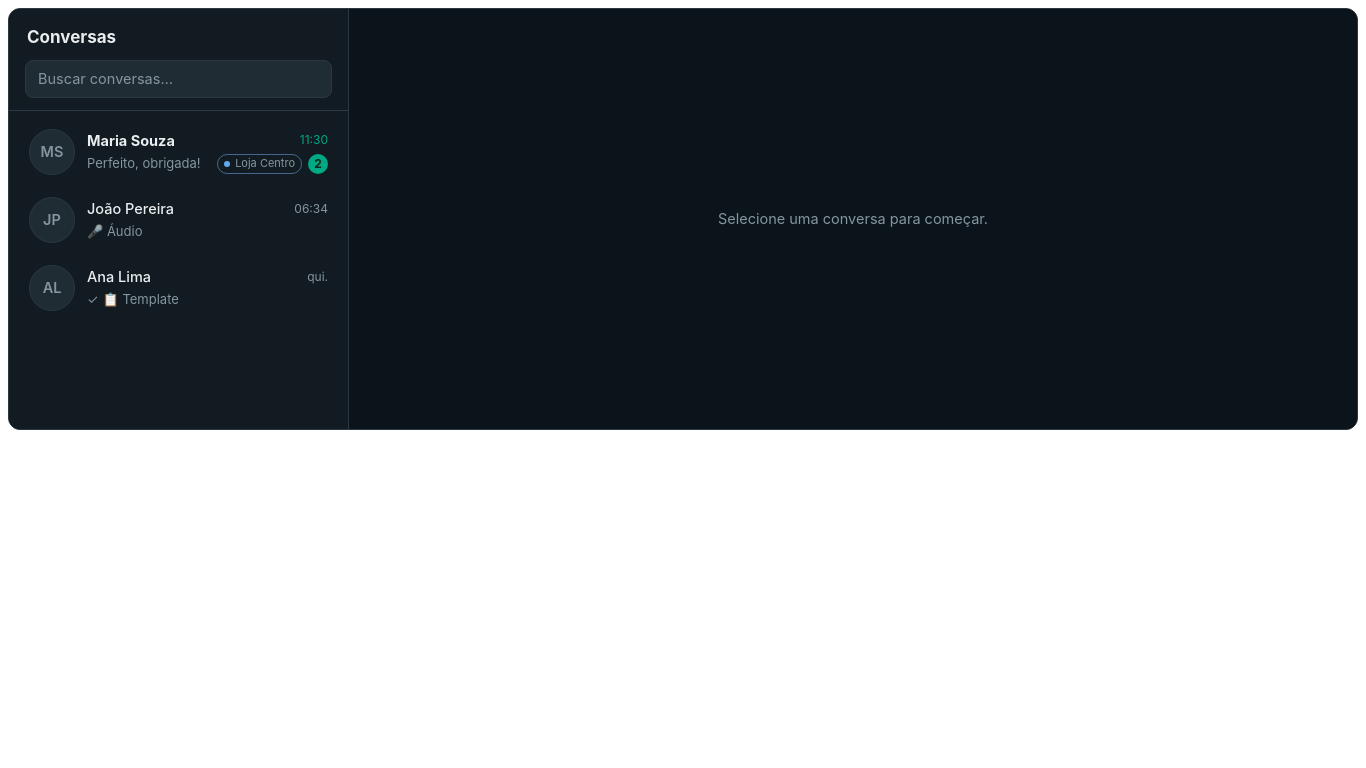
Test: ChatApp › shows the closed-window composer for expired sessions
Step 1. Click the button "AL Ana Lima qui. ✓ 📋 Template" → [52, 288], box [17,255,340,321]
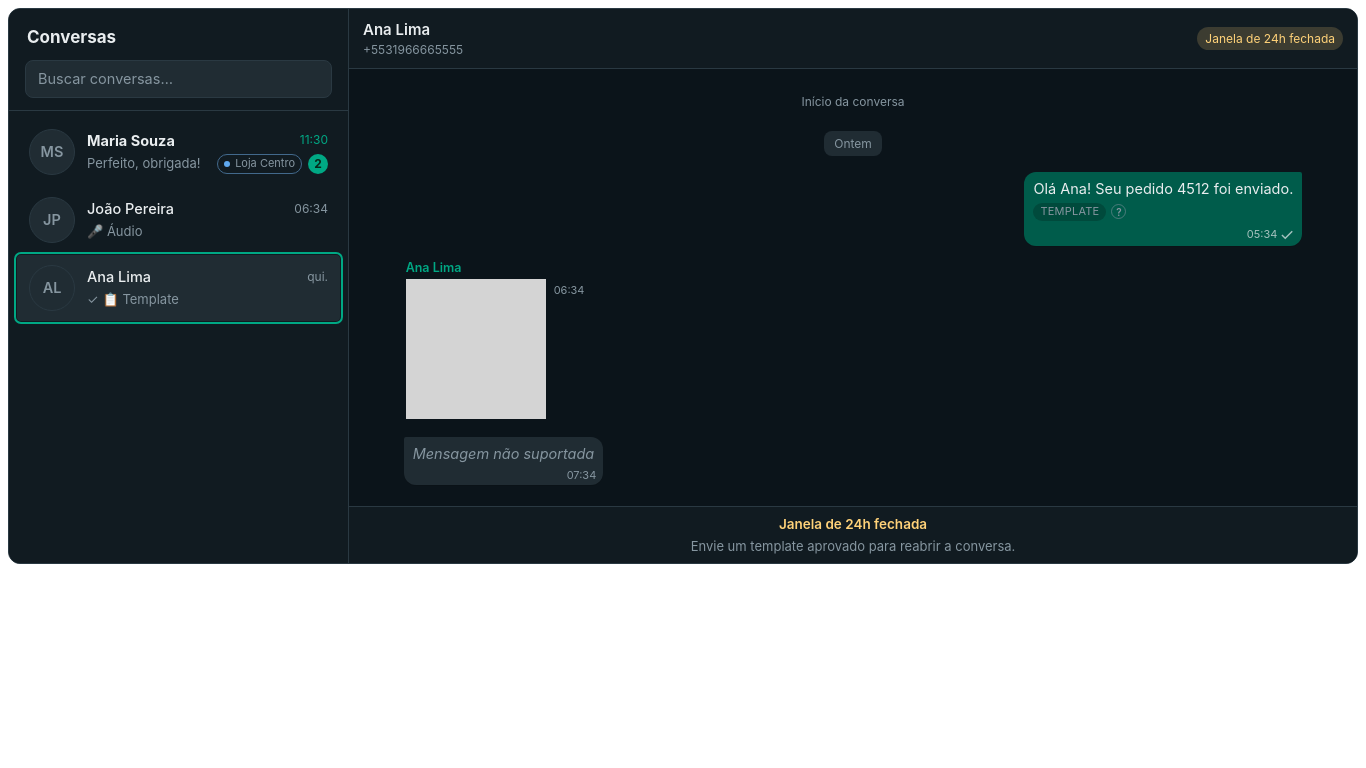
Expected: the text "Janela de 24h fechada" is shown 2 times, [1197,27,1343,50]; [779,516,927,532]
